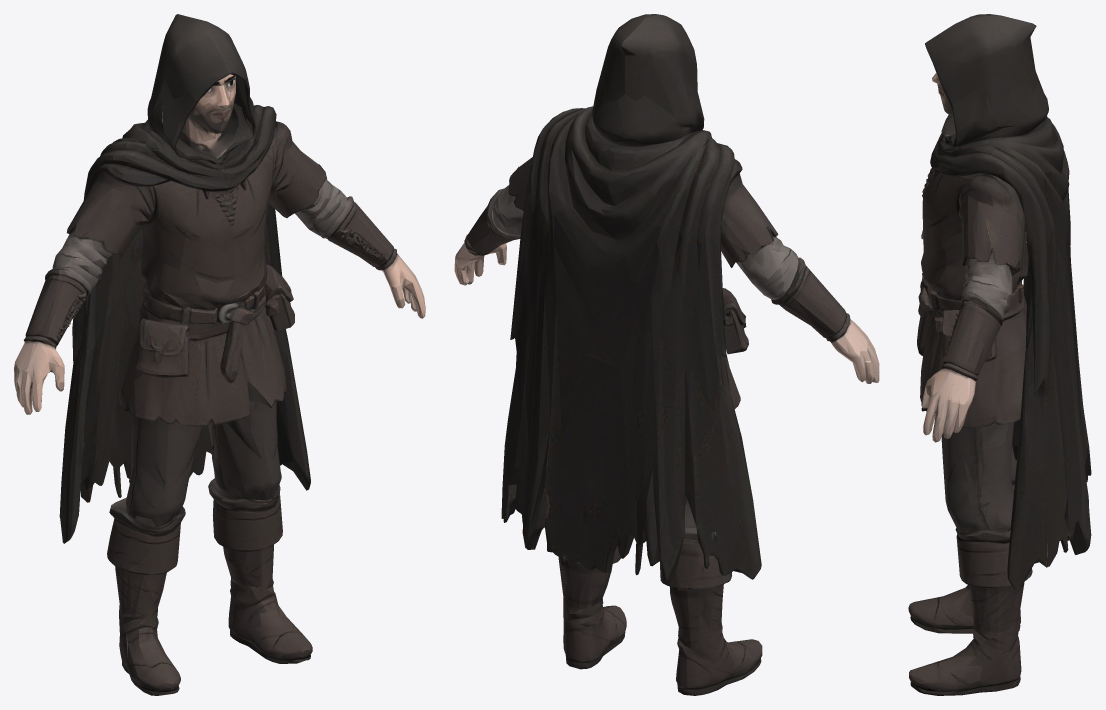
The model's file is vex.glb.
The picture shows the model from 3 angles, left to right: view 1: azimuth 30°, elevation 25°; view 2: azimuth 150°, elevation 25°; view 3: azimuth 270°, elevation 25°; orthographic projection. The views are drawn at different scales.
Visible parts, largest first — view 1: output_unwrapped; view 2: output_unwrapped; view 3: output_unwrapped.
Boxes of the visible parts, box(x1,y1,x2,y2) form: output_unwrapped: box(14, 14, 425, 695); output_unwrapped: box(454, 14, 879, 695); output_unwrapped: box(908, 14, 1091, 695).
Size of the model in its own units: 1.27 by 1.9 by 0.4925.
1 material, 1 textured.
